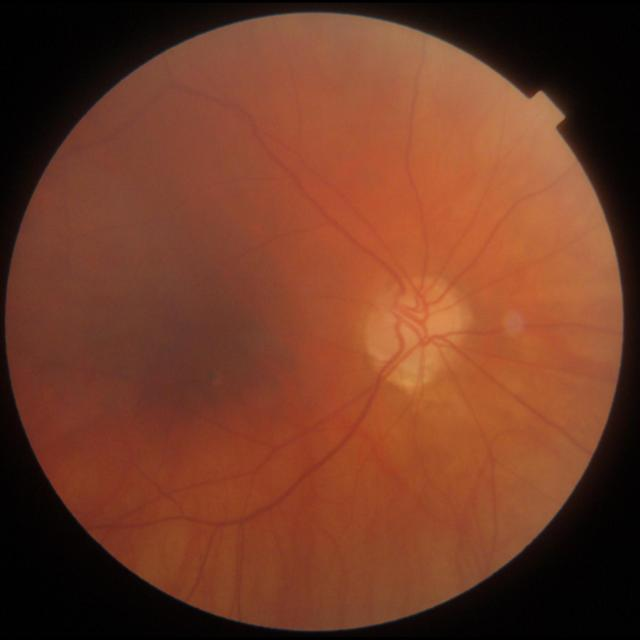OD: (371, 282, 461, 384)
